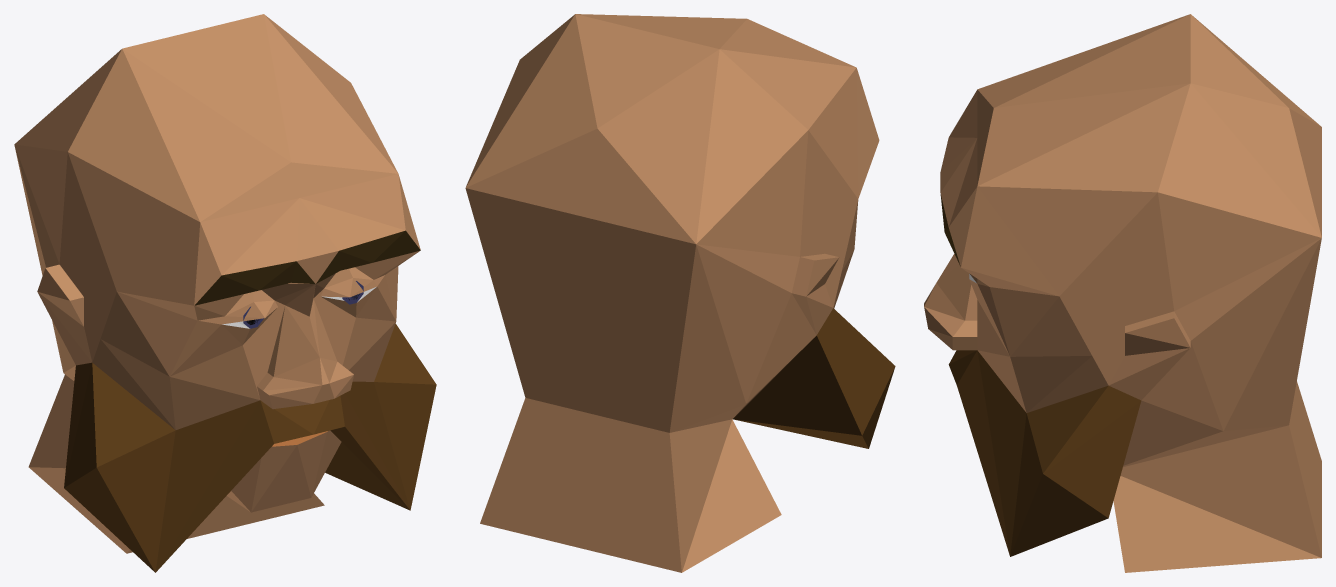
File: model_1_npc_head.obj
3 views of the same model, side by side, from view 1: azimuth 30°, elevation 25°; view 2: azimuth 150°, elevation 25°; view 3: azimuth 270°, elevation 25° (orthographic).
Visible parts, largest first — view 1: 1; view 2: 1; view 3: 1.
Boxes of the visible parts, x1,y1,x2,y2 form: 1: [14, 14, 436, 572]; 1: [465, 14, 895, 572]; 1: [924, 14, 1321, 572].
Bounding box in the file's own units: 96 × 128 × 97.
